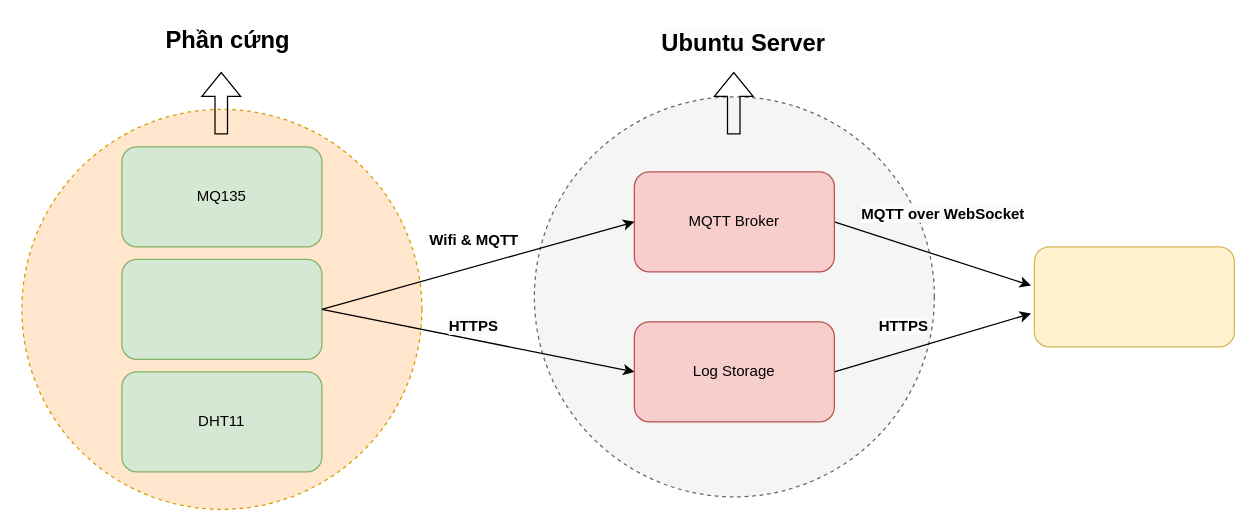
Some shapes in this 1256 by 531 pixel diagram are drawn without their labels. The shapes that lost their labels are listed below. From the top down, each one's centre as x and y in pixels, then its label:
At point 221,308: "ESP32-WROM-32D".
At point 1133,296: "Web App".
